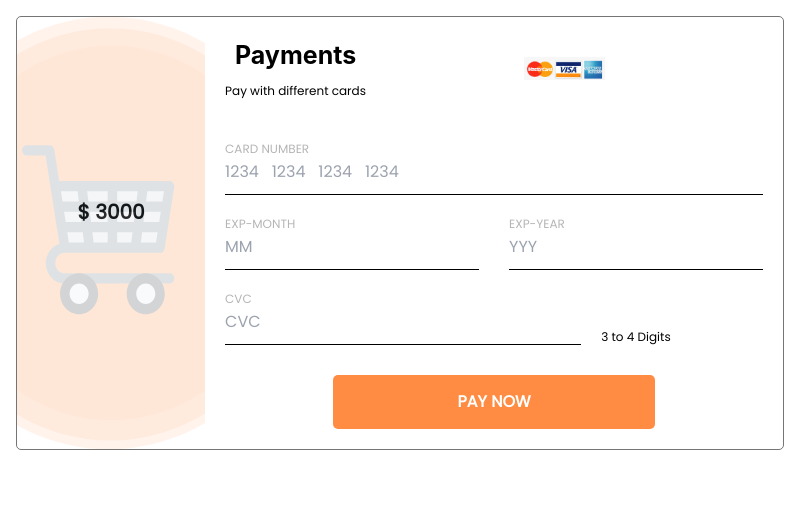
Scenario: tesing the component after loading › should test expiration condition
Type "4242424242424242" into the field with test id "cardNumber".
click(494, 172); type("4242424242424242")  # box [225, 150, 763, 194]
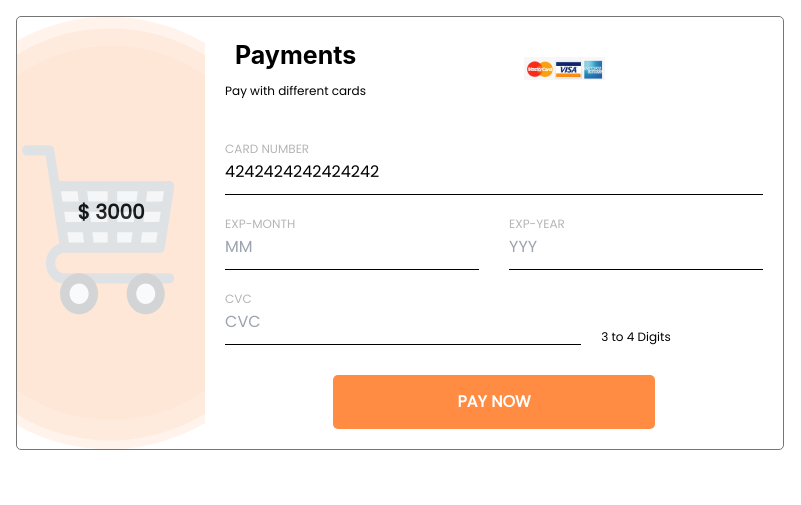
Type "1" into the field with test id "expMonth".
click(352, 247); type("1")  # box [225, 224, 479, 270]
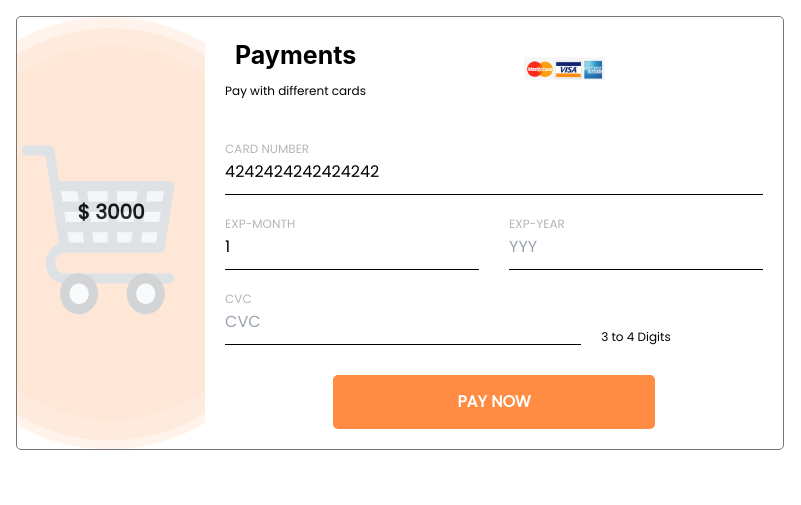
Type "2023" into the field with test id "expYear".
click(636, 247); type("2023")  # box [509, 224, 763, 270]
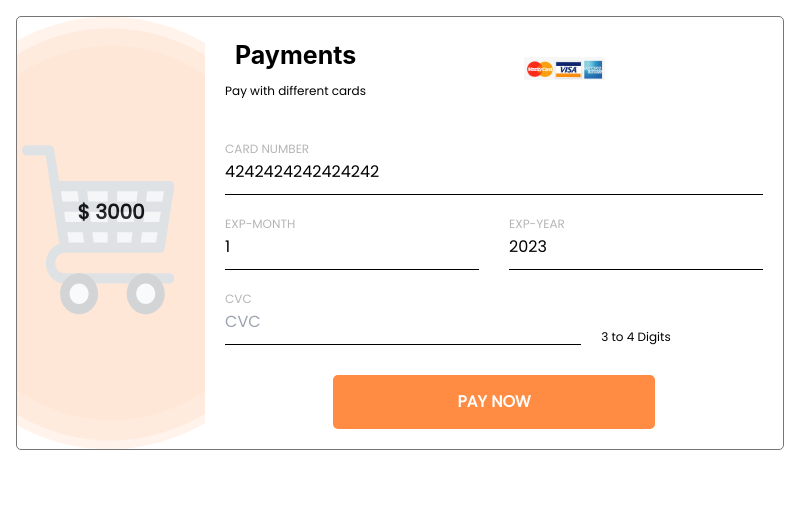
Type "4242" into the field with test id "cvc".
click(403, 322); type("4242")  # box [225, 300, 581, 344]
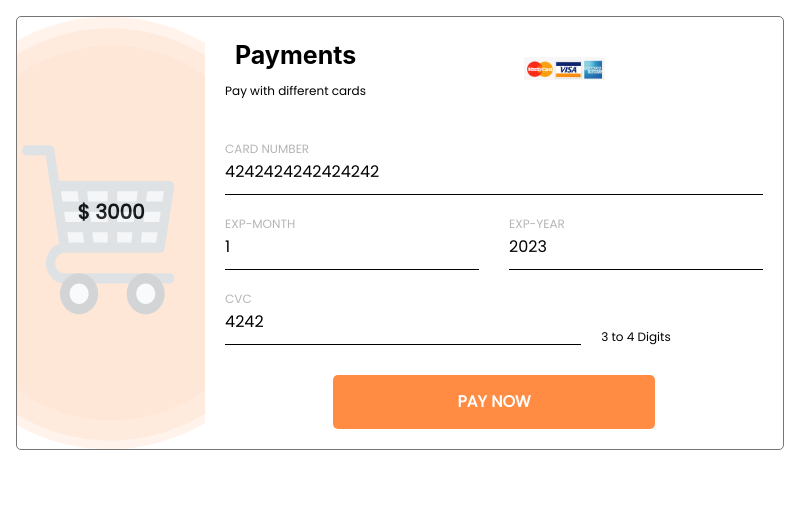
Click the button "PAY NOW".
click(494, 402)  # box [333, 374, 655, 428]
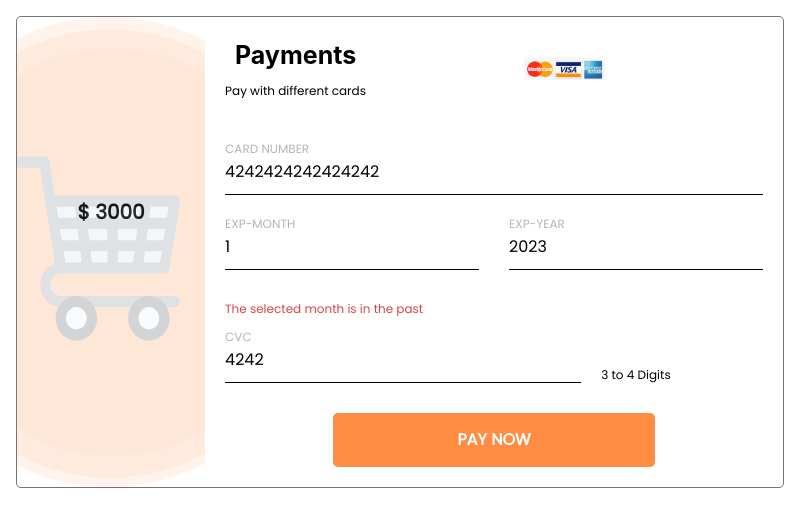
Check: the text "The selected month is in the past" is shown, box [225, 300, 423, 316]
